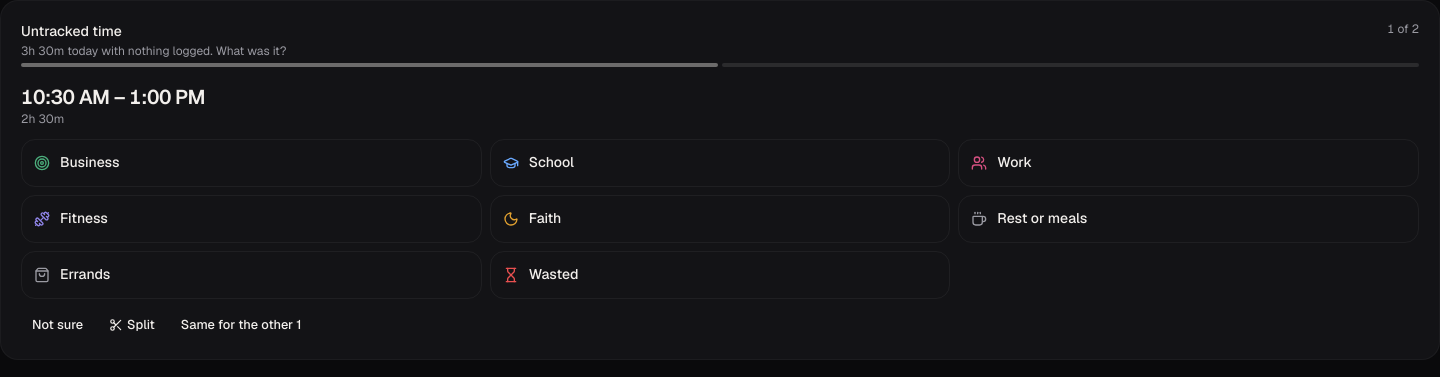
CloseGapsStage › one tap answers and moves on; the last answer saves every answer together, then shows a short summary
This screenshot has width=1440, height=377.
Click the button "Business": point(90, 162) [21, 139, 482, 187]
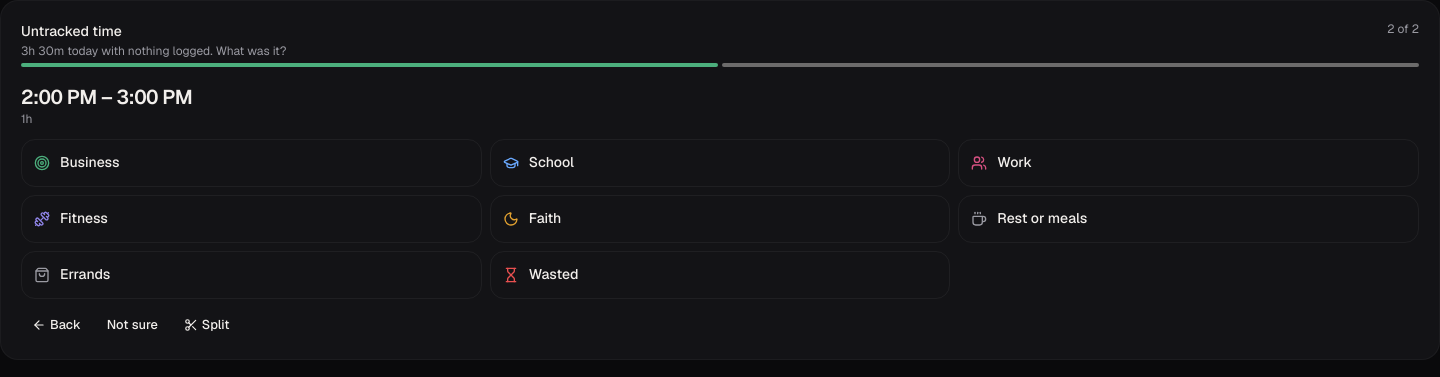
Now the text with test id "close-gaps-range" reads "2:00 PM – 3:00 PM", box [21, 84, 192, 110]
Click the button "Rest or meals": point(1042, 218) [958, 195, 1419, 243]
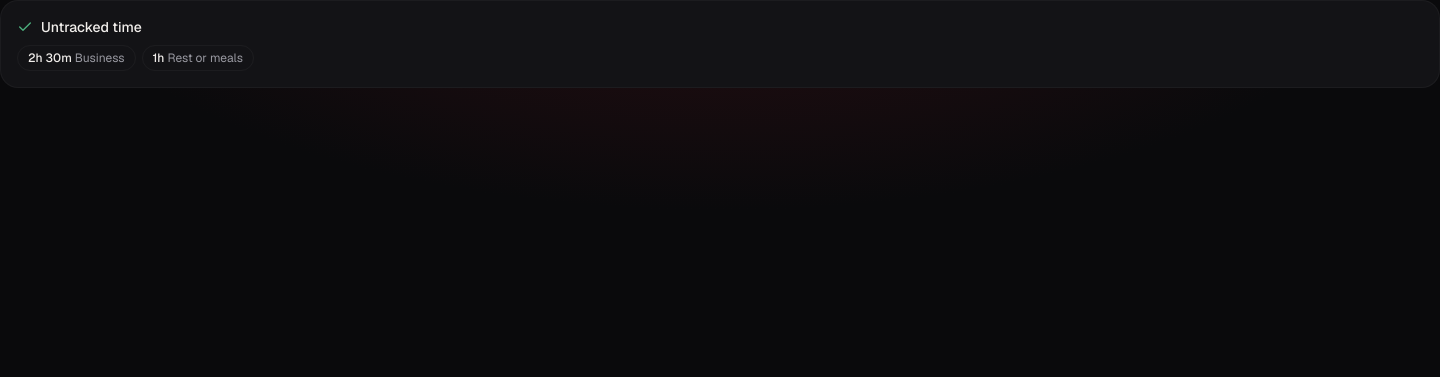
Now the element with test id "close-gaps-done" shows "2h 30m Business", box [0, 0, 1439, 88]
Now the element with test id "close-gaps-done" shows "1h Rest or meals", box [0, 0, 1439, 88]
